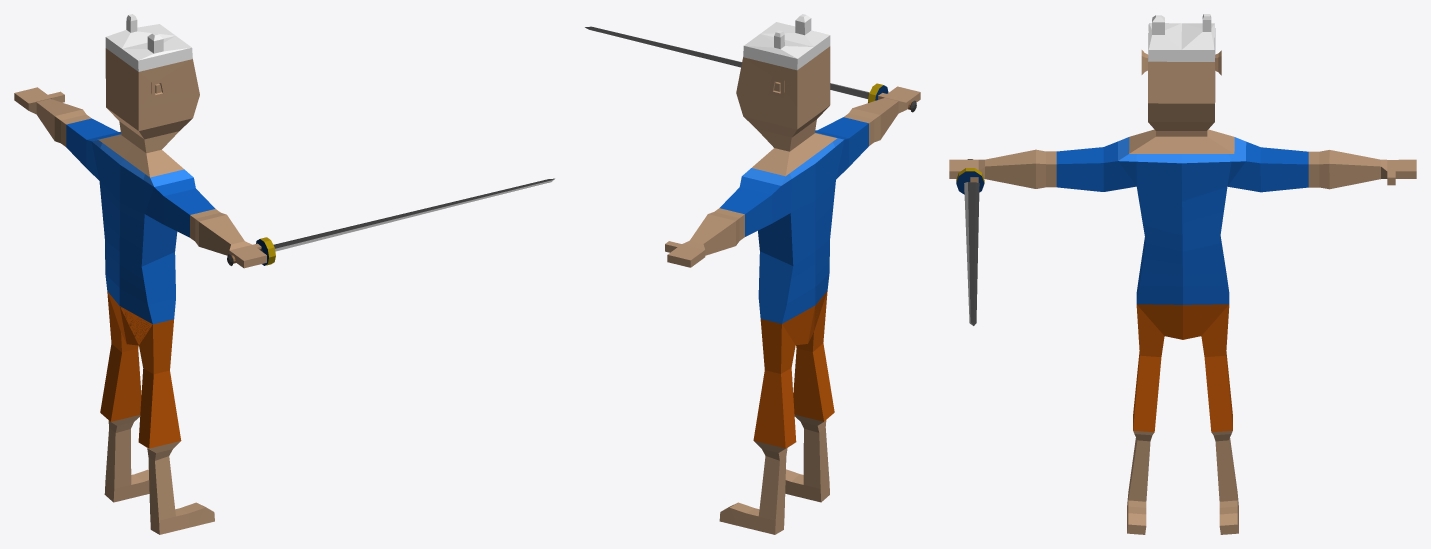
File: Player.fbx
3 views of the same model, side by side, from view 1: azimuth 30°, elevation 25°; view 2: azimuth 150°, elevation 25°; view 3: azimuth 270°, elevation 25° (orthographic).
Visible parts, largest first — view 1: player; view 2: player; view 3: player.
Boxes of the visible parts, x1,y1,x2,y2 form: player: (14,14,554,534); player: (585,14,920,534); player: (949,14,1416,534).
Bounding box in the file's own units: 183 × 257 × 219.
Materials: 1 (1 with a texture image).
